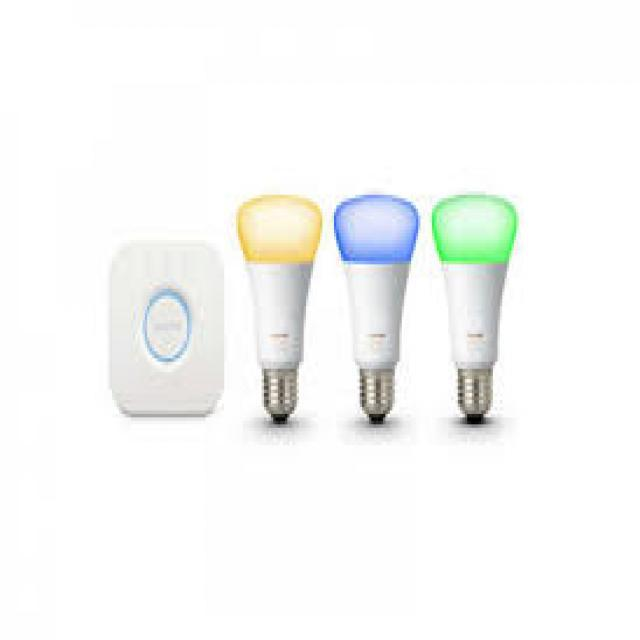light_bulb: (226, 170, 330, 438), (424, 166, 524, 440), (326, 168, 426, 438)
